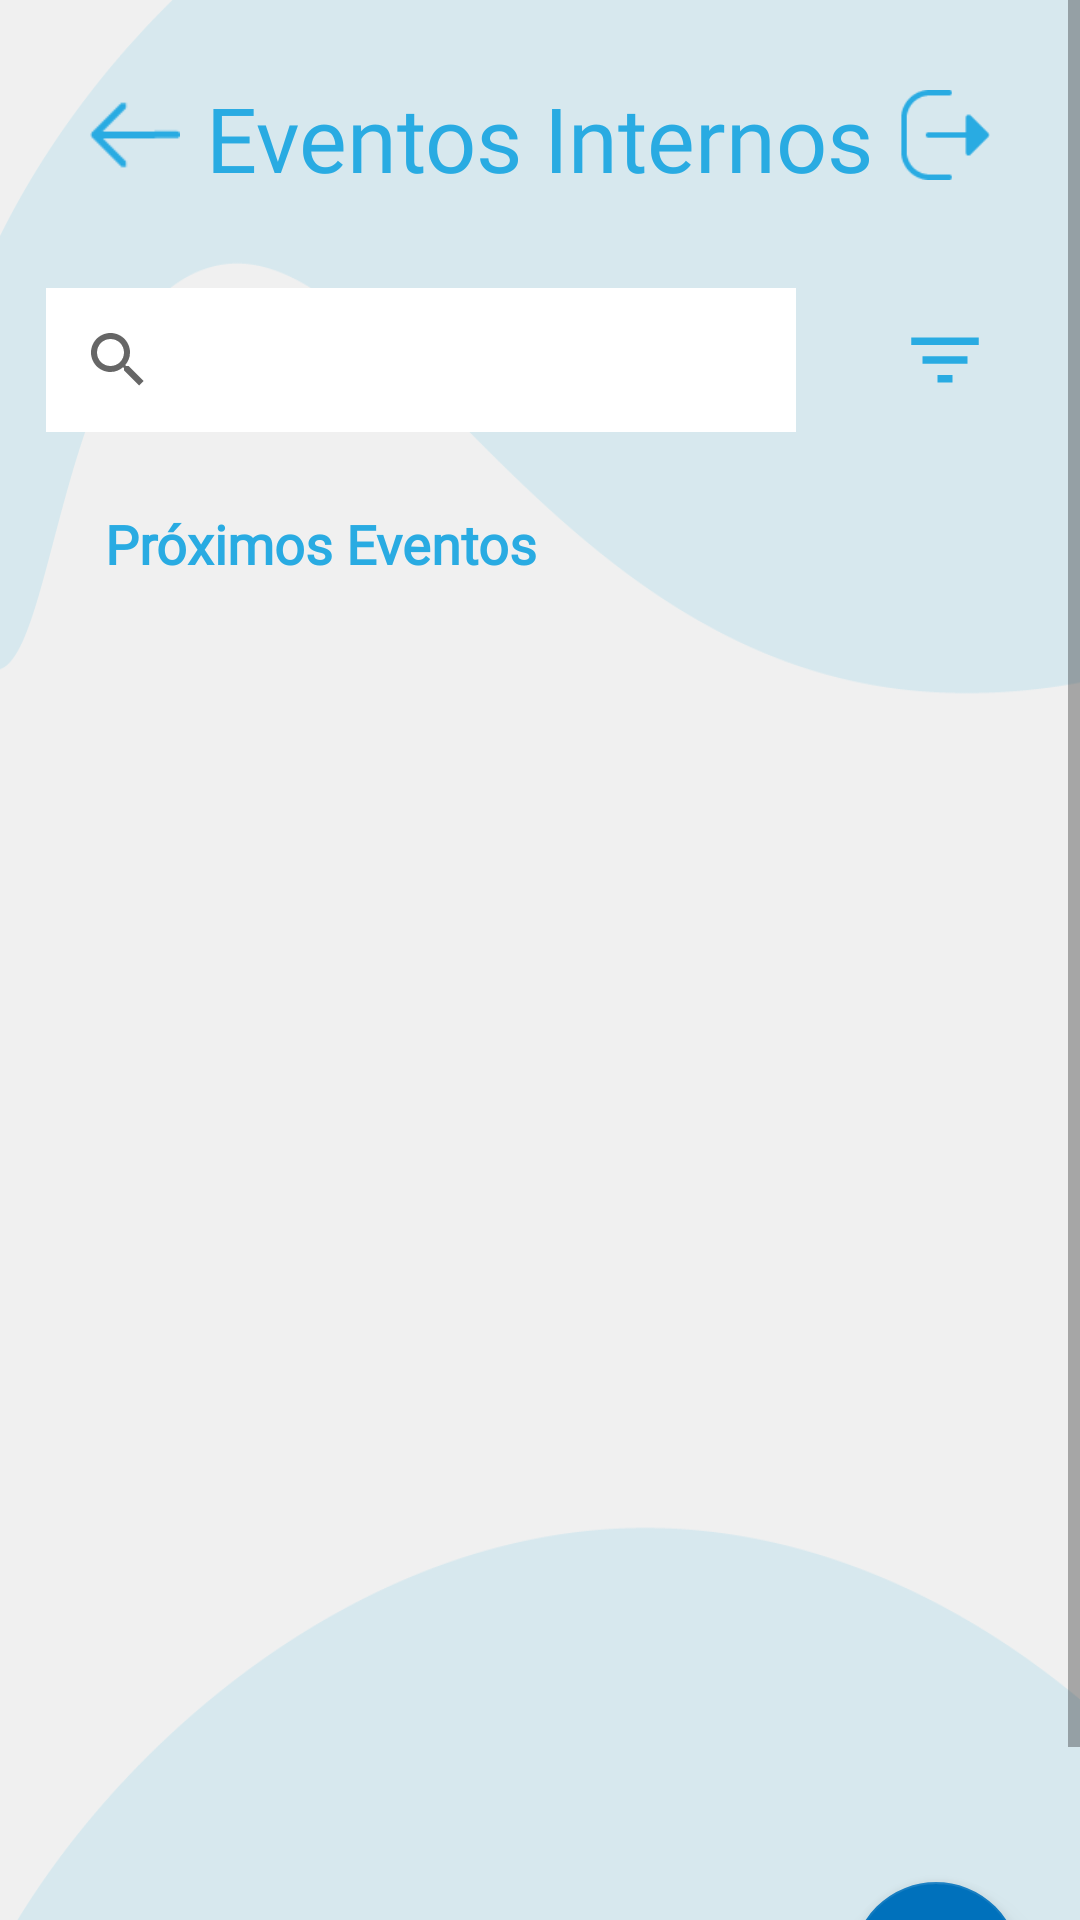

Icons on this 1080*1920 Android screen, each with its box as (x1, y1, x2, y2):
filter: (911, 337, 979, 383)
